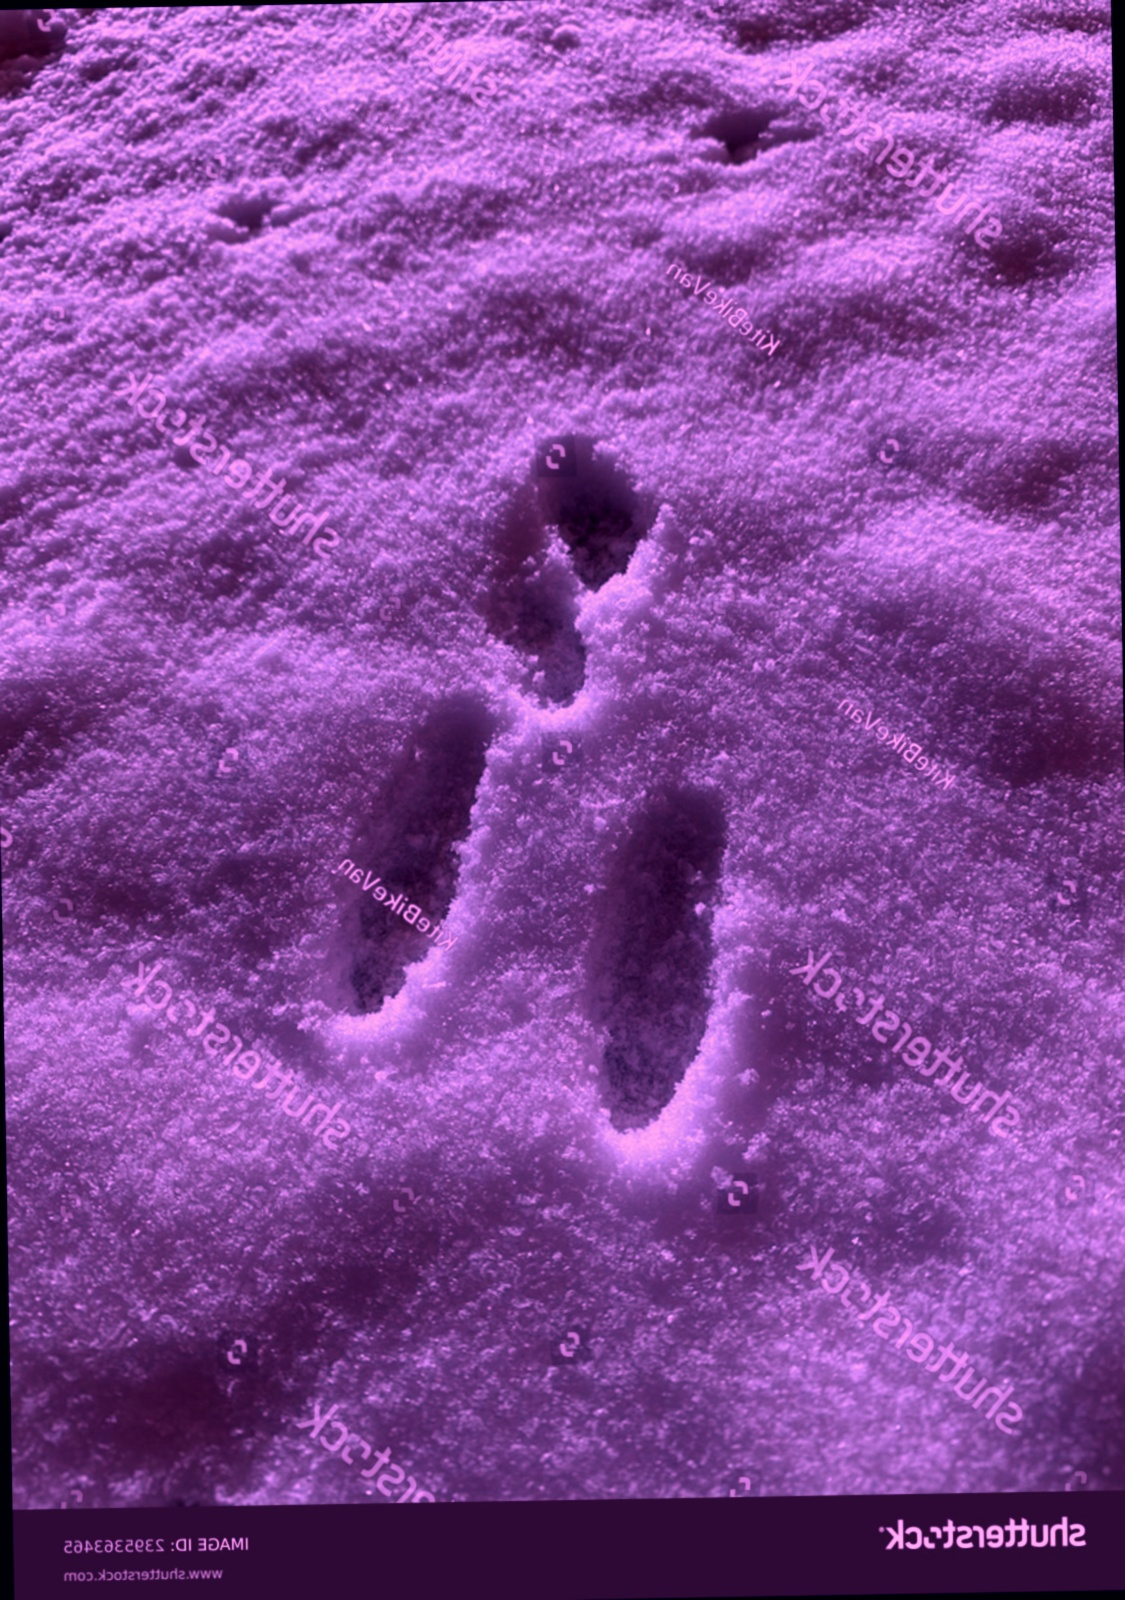lapin: (364, 759, 569, 1168), (628, 675, 818, 1044), (444, 421, 647, 712)
